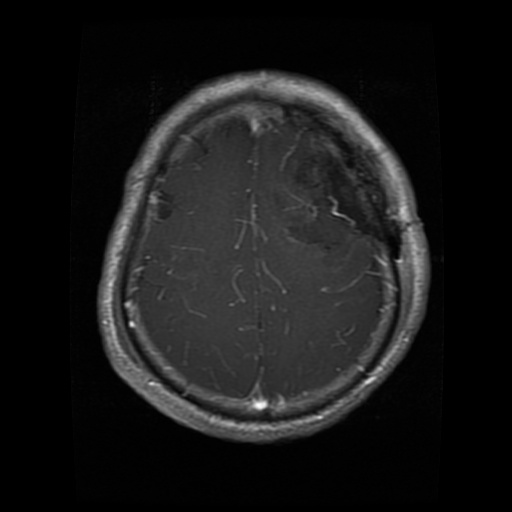glioma: (271, 127, 379, 243)
